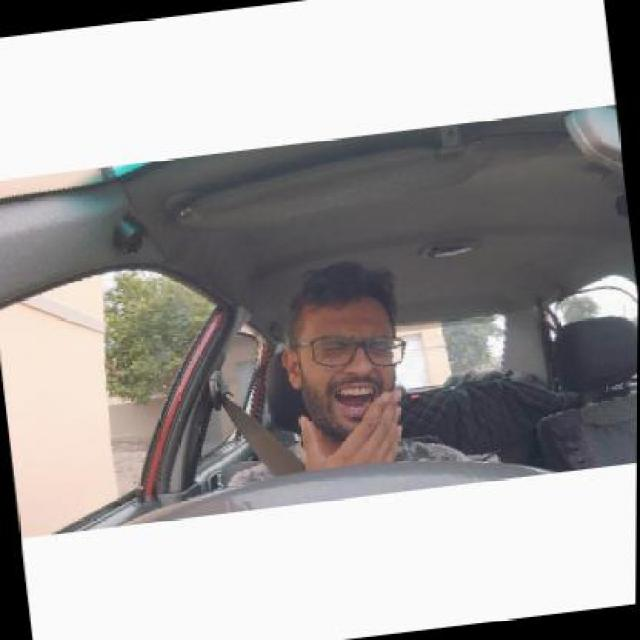drowsy: (274, 258, 417, 448)
